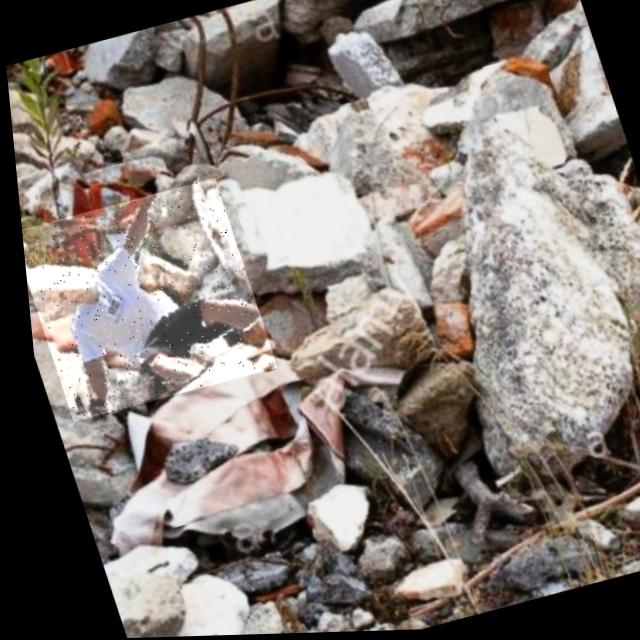Person in Rubble: (14, 177, 273, 422)
